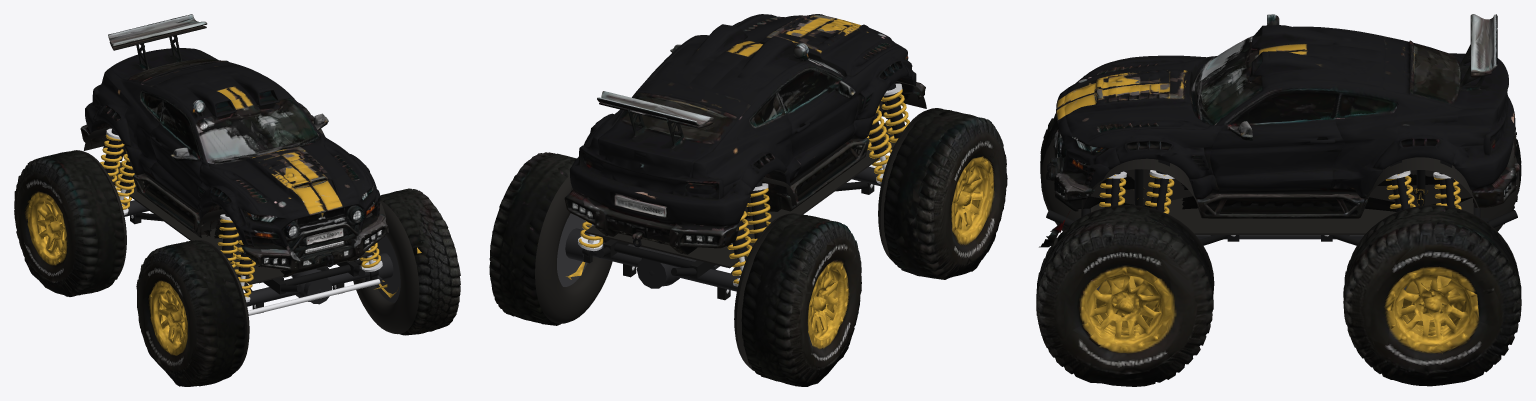
Rendered from monster_truck_stealth_gold_lod1.glb.
The picture shows the model from 3 angles, left to right: view 1: azimuth 30°, elevation 25°; view 2: azimuth 150°, elevation 25°; view 3: azimuth 270°, elevation 25°; orthographic projection. The views are drawn at different scales.
Visible parts, largest first — view 1: Body, Wheel_FL, Wheel_RL, Wheel_FR, Chassis, Axle_F, Shock_RL_1_Spring, Shock_RL_2_Spring, Shock_FL_1_Spring, Shock_FL_2_Spring, Shock_RL_2_Body, Shock_FL_2_Body; view 2: Body, Wheel_FL, Wheel_RL, Wheel_RR, Chassis, Axle_R, Shock_FL_2_Spring, Shock_FL_1_Spring, Shock_RL_2_Spring, Shock_RL_1_Spring, Shock_RL_1_Body, Shock_FL_1_Body; view 3: Body, Wheel_FR, Wheel_RR, Chassis, Wheel_FL, Wheel_RL, Shock_FR_2_Body, Shock_RR_1_Body, Shock_FR_1_Body, Shock_RR_2_Body.
Part boxes in pixels (box(x1,y1,x2,y2)): Body: box(80, 14, 388, 277); Wheel_FL: box(136, 240, 249, 386); Wheel_RL: box(14, 150, 126, 296); Wheel_FR: box(353, 188, 460, 335); Chassis: box(110, 126, 373, 294); Axle_F: box(244, 251, 393, 315); Shock_RL_1_Spring: box(115, 151, 135, 209); Shock_RL_2_Spring: box(100, 134, 124, 186); Shock_FL_1_Spring: box(234, 240, 255, 297); Shock_FL_2_Spring: box(217, 219, 239, 267); Shock_RL_2_Body: box(104, 128, 124, 176); Shock_FL_2_Body: box(220, 213, 239, 262); Body: box(564, 14, 926, 254); Wheel_FL: box(878, 108, 1007, 279); Wheel_RL: box(734, 213, 861, 386); Wheel_RR: box(489, 152, 612, 325); Chassis: box(585, 81, 896, 278); Axle_R: box(565, 228, 740, 300); Shock_FL_2_Spring: box(867, 105, 891, 181); Shock_FL_1_Spring: box(881, 89, 909, 149); Shock_RL_2_Spring: box(727, 211, 752, 283); Shock_RL_1_Spring: box(746, 188, 771, 242); Shock_RL_1_Body: box(747, 181, 768, 238); Shock_FL_1_Body: box(882, 83, 904, 138); Body: box(1047, 14, 1519, 218); Wheel_FR: box(1036, 205, 1214, 386); Wheel_RR: box(1343, 205, 1521, 386); Chassis: box(1046, 160, 1517, 241); Wheel_FL: box(1040, 113, 1093, 231); Wheel_RL: box(1480, 135, 1521, 231); Shock_FR_2_Body: box(1149, 170, 1174, 211); Shock_RR_1_Body: box(1387, 170, 1410, 211); Shock_FR_1_Body: box(1104, 171, 1126, 207); Shock_RR_2_Body: box(1433, 172, 1455, 207).
Bounding box in the file's own units: 3.99 × 3.12 × 5.04.
Materials: 8 (1 with a texture image).
